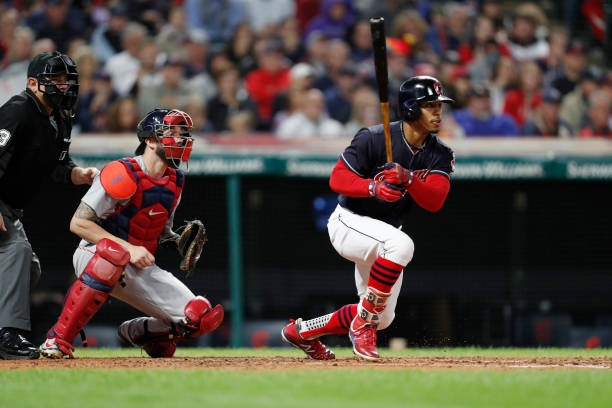bita: (371, 17, 402, 176)
